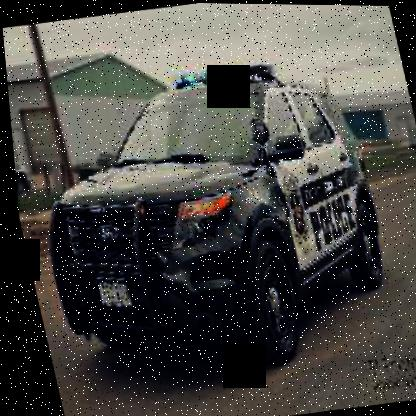emergency: (17, 40, 415, 399)
